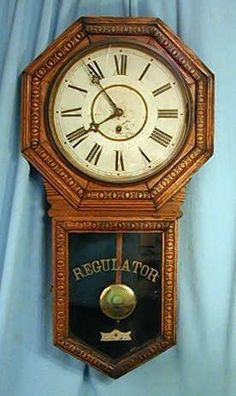clock: (53, 43, 188, 180)
